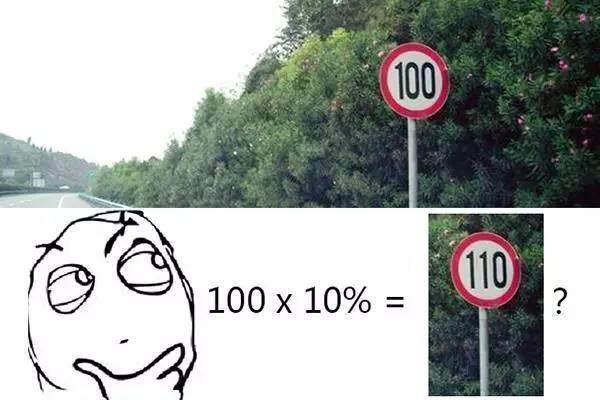Speed_limit_100km: (378, 43, 451, 119)
Speed_limit_110km: (449, 232, 522, 308)
